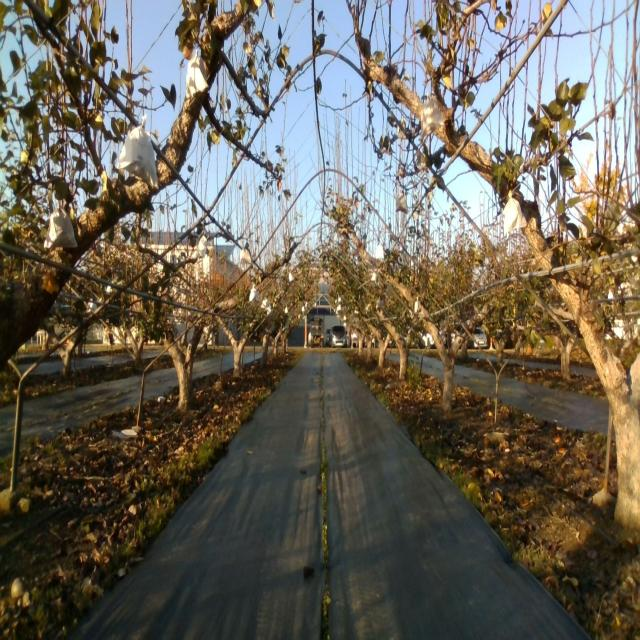pearbags: (115, 114, 158, 193), (43, 203, 78, 253), (503, 189, 528, 240), (185, 48, 207, 98), (419, 92, 443, 137), (395, 192, 408, 213), (240, 247, 252, 266)
